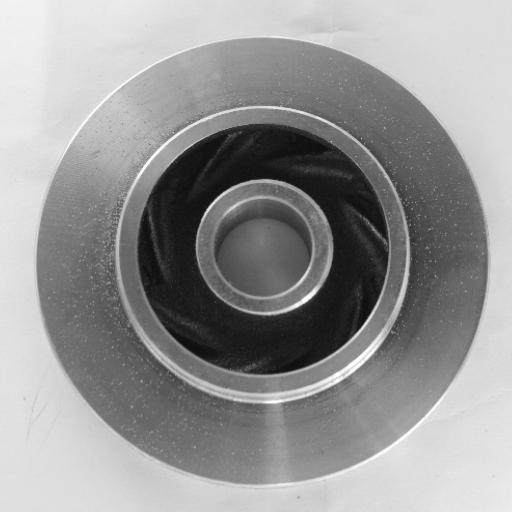polished_casting: (35, 34, 492, 490)
